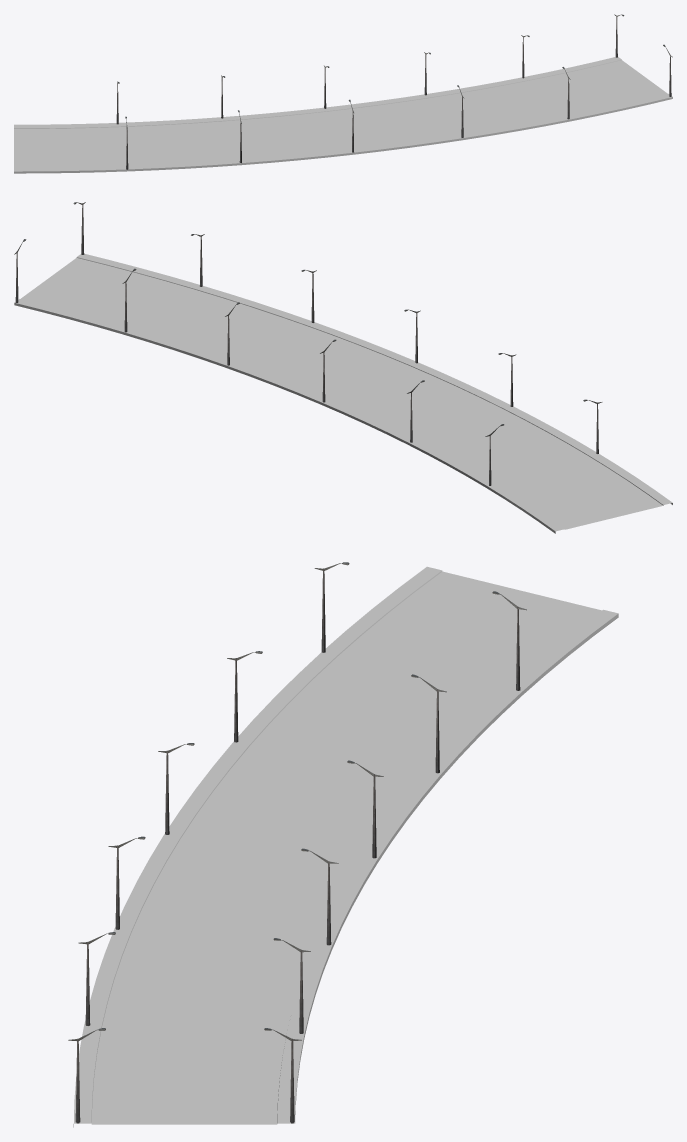
File: Big_Road_30.FBX
3 views of the same model, one above another, from view 1: azimuth 30°, elevation 25°; view 2: azimuth 150°, elevation 25°; view 3: azimuth 270°, elevation 25° (orthographic). The views are drawn at different scales.
Parts seen in each view (by area): view 1: Big_Road_30, city_light005; view 2: Big_Road_30, city_light005; view 3: Big_Road_30, city_light005.
Part boxes in pixels (left/top/right/bottom): Big_Road_30: left=14, top=57, right=672, bottom=173; city_light005: left=116, top=14, right=672, bottom=169; Big_Road_30: left=14, top=253, right=672, bottom=533; city_light005: left=14, top=202, right=602, bottom=485; Big_Road_30: left=73, top=566, right=618, bottom=1127; city_light005: left=68, top=562, right=526, bottom=1123.
Size of the model in its own units: 135 by 56.38 by 11.04.
